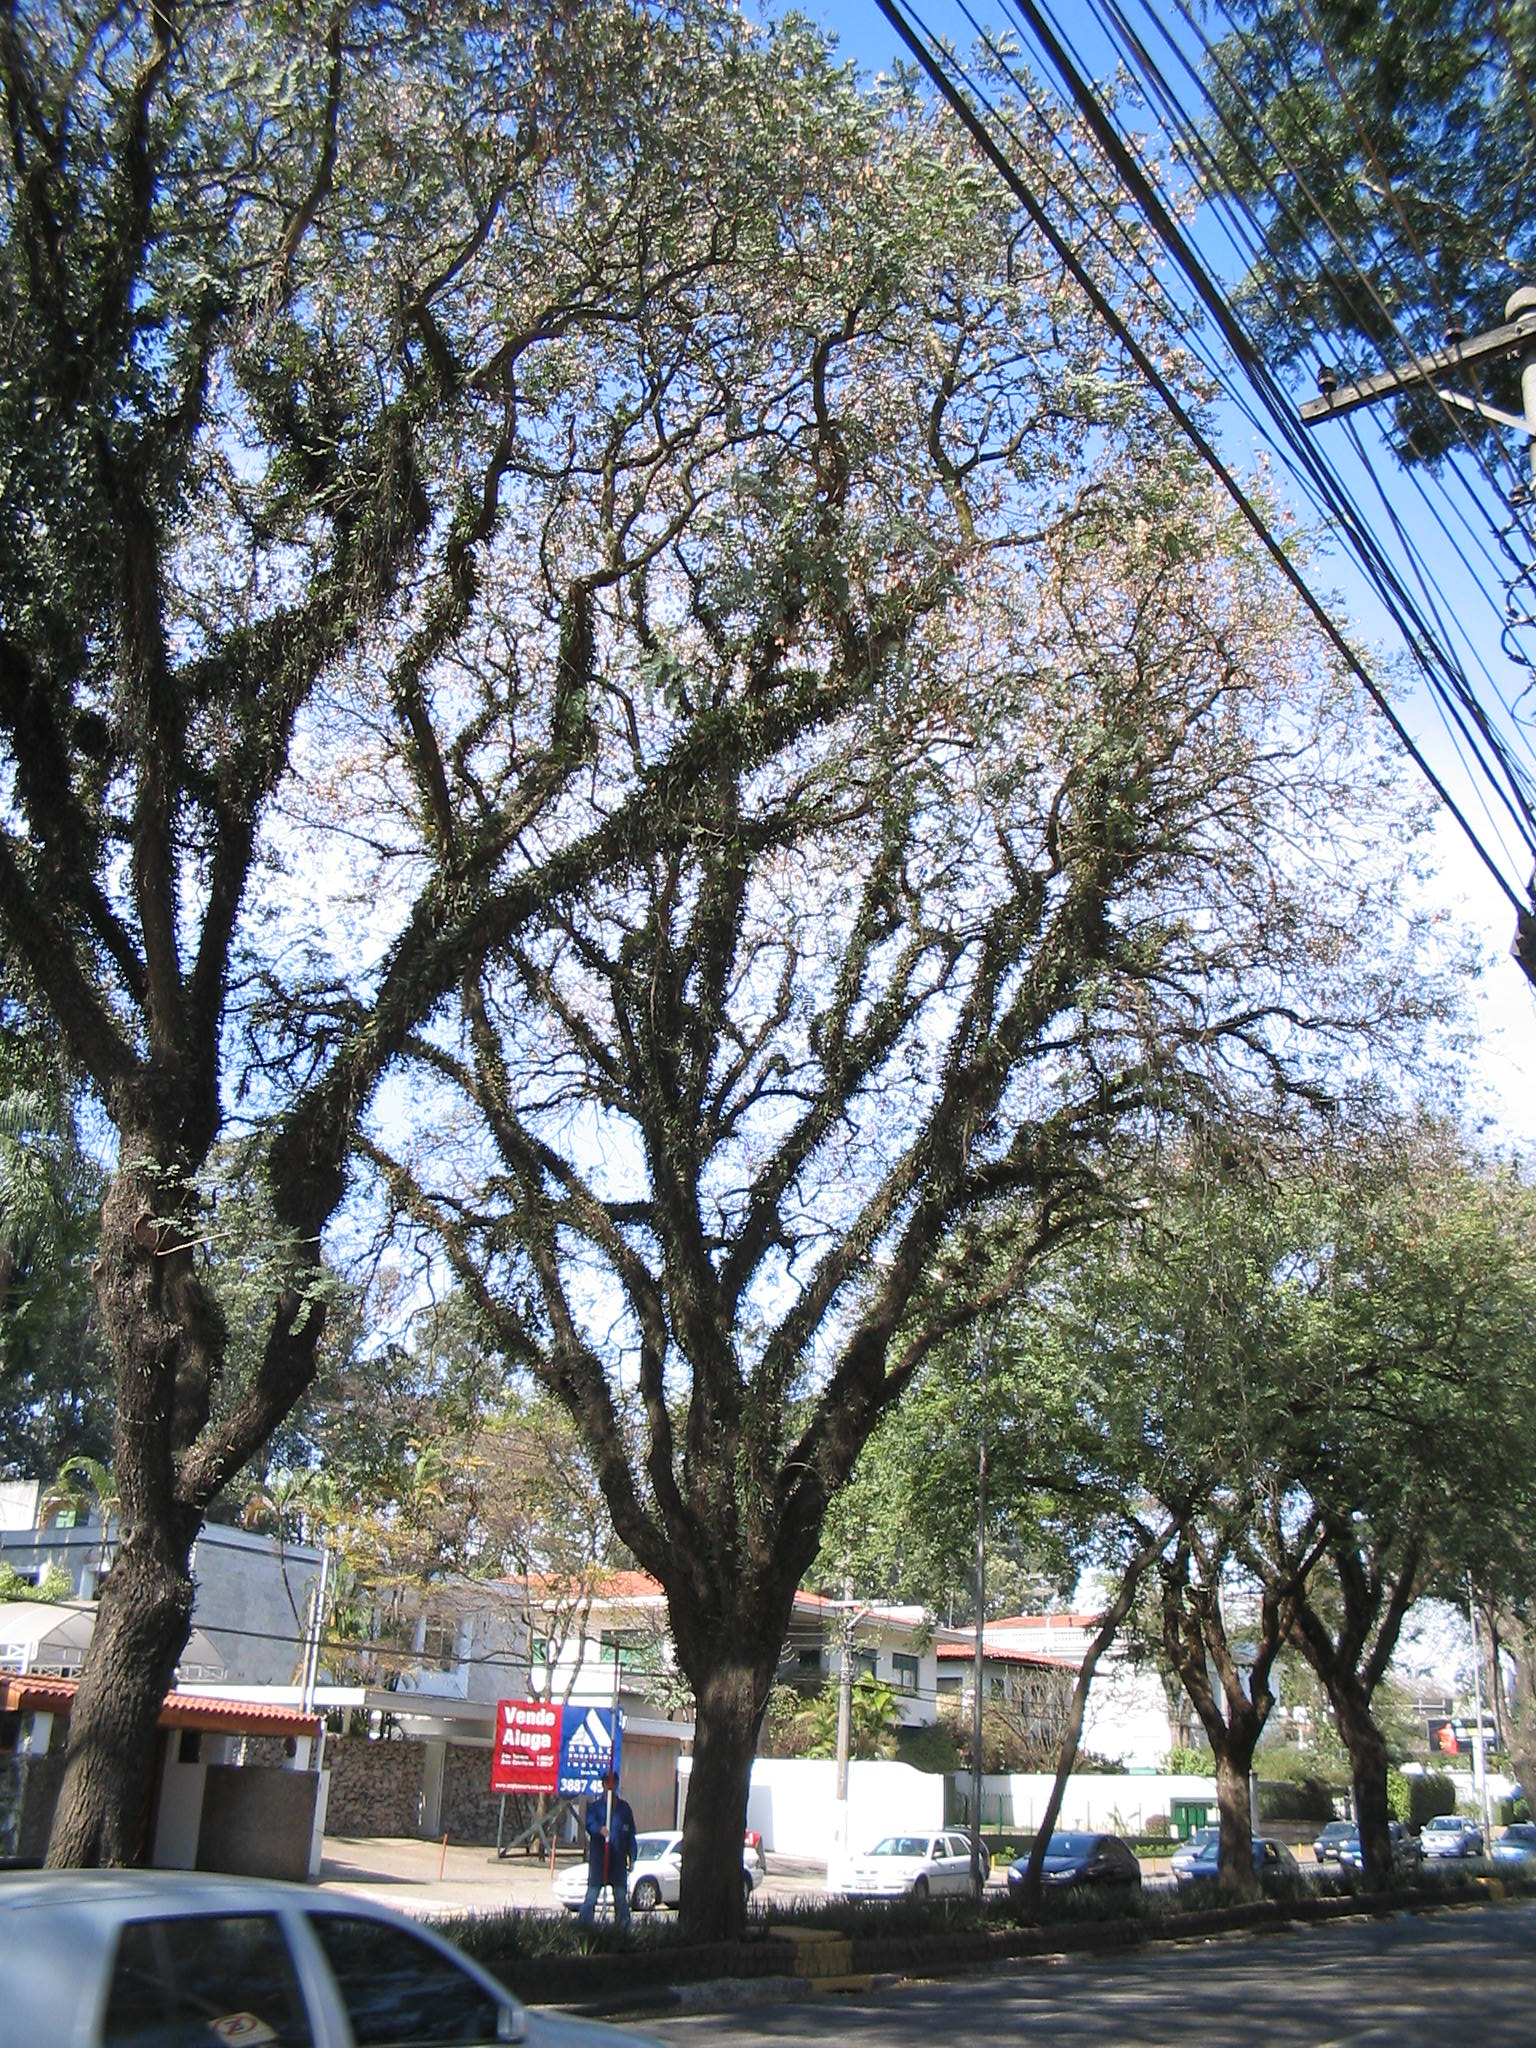crown: (928, 1147, 1421, 1611), (1220, 1134, 1526, 1658)
stem: (27, 1555, 190, 1966), (650, 1682, 786, 1942), (1176, 1750, 1292, 1903), (1321, 1737, 1417, 1882)
stick: (591, 1642, 631, 1945)
tree: (6, 5, 1099, 1971), (373, 24, 1438, 1954), (916, 1145, 1425, 1908), (1208, 1134, 1530, 1882)
